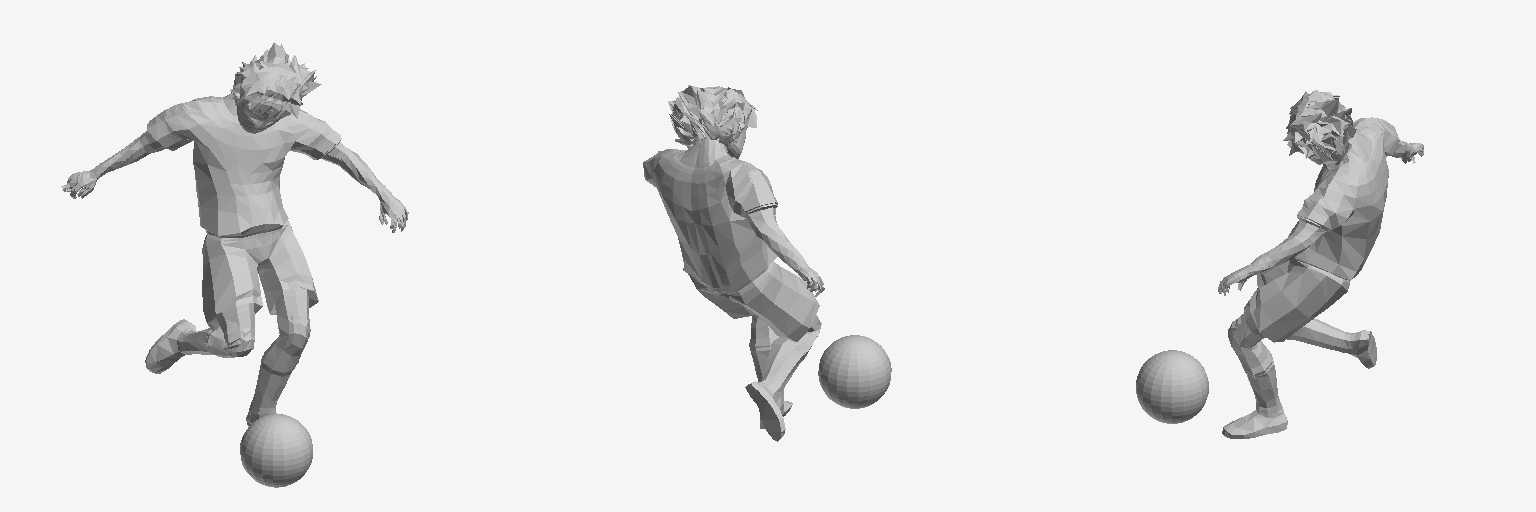
The picture shows the model from 3 angles: view 1: azimuth 30°, elevation 25°; view 2: azimuth 150°, elevation 25°; view 3: azimuth 270°, elevation 25°; orthographic projection.
Parts seen in each view (by area): view 1: OLIVER1_Untitled, initialShadingGroup1_Untitled.006, pSphere2_Untitled.008, OLIVER2_Untitled.003; view 2: OLIVER1_Untitled, pSphere2_Untitled.008, OLIVER2_Untitled.003, initialShadingGroup1_Untitled.006; view 3: OLIVER1_Untitled, initialShadingGroup1_Untitled.006, pSphere2_Untitled.008, OLIVER2_Untitled.003.
Part boxes in pixels (x1,y1,x2,y2): OLIVER1_Untitled: (61, 93, 408, 418); initialShadingGroup1_Untitled.006: (66, 102, 405, 425); pSphere2_Untitled.008: (240, 414, 312, 487); OLIVER2_Untitled.003: (230, 42, 321, 118); OLIVER1_Untitled: (643, 127, 824, 440); pSphere2_Untitled.008: (818, 335, 891, 408); OLIVER2_Untitled.003: (668, 85, 757, 148); initialShadingGroup1_Untitled.006: (656, 145, 823, 441); OLIVER1_Untitled: (1218, 118, 1423, 438); initialShadingGroup1_Untitled.006: (1221, 117, 1422, 435); pSphere2_Untitled.008: (1136, 350, 1208, 423); OLIVER2_Untitled.003: (1283, 90, 1356, 164).
Size of the model in its own units: 0.4749 by 0.653 by 0.4732.